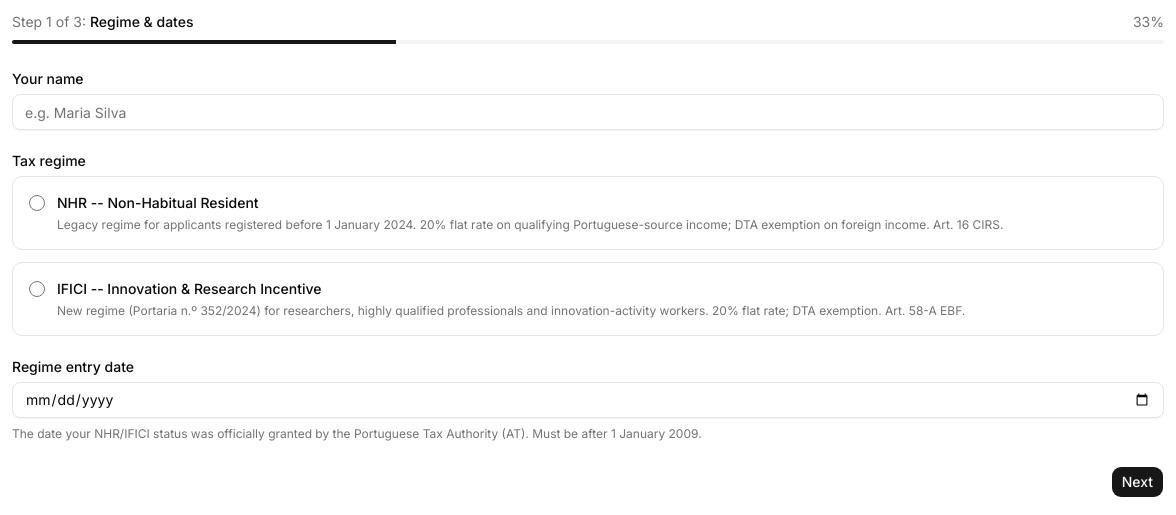
Test: OnboardingWizard › advances to Step 2 (Profession code) after completing Step 1
Type "Test User" into the field labelled "Your name". click: (588, 112)
box: [12,94,1164,130]
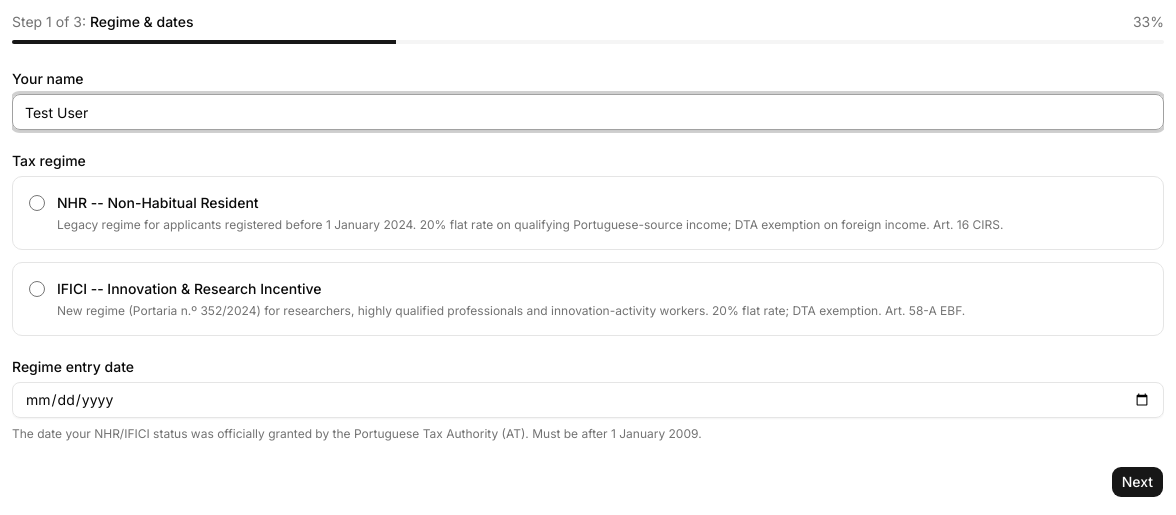
Click the text "NHR -- Non-Habitual Resident". click: (158, 202)
box: [57,194,259,211]
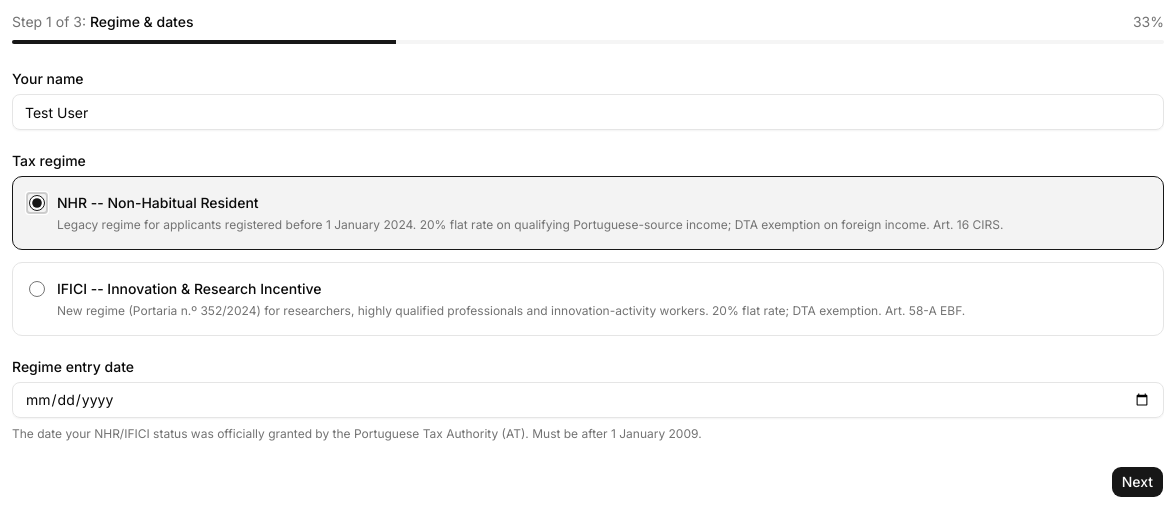
Type "2022-01-01" into the date field labelled "Regime entry date". click: (588, 400)
box: [12,382,1164,418]
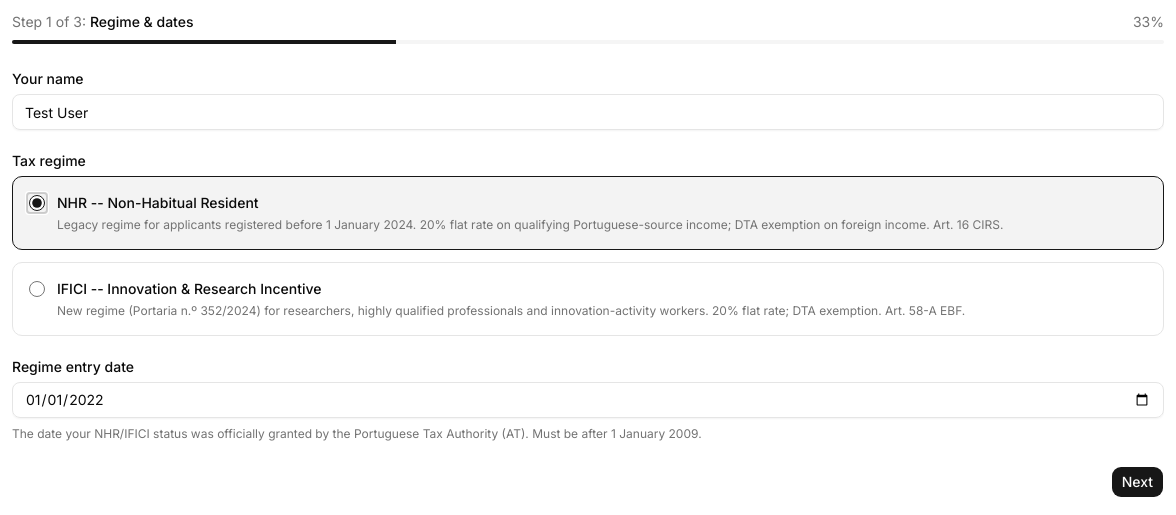
Click the button "Next". click: (1137, 482)
box: [1111,466,1164,498]
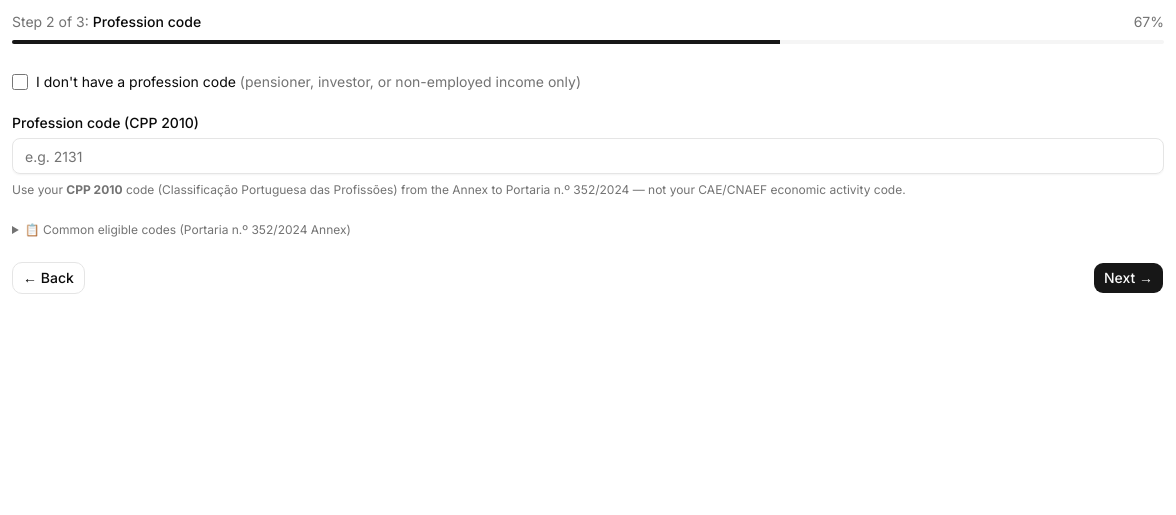
Now the text "Profession code (CPP 2010)" is shown, box [12,114,199,131]
